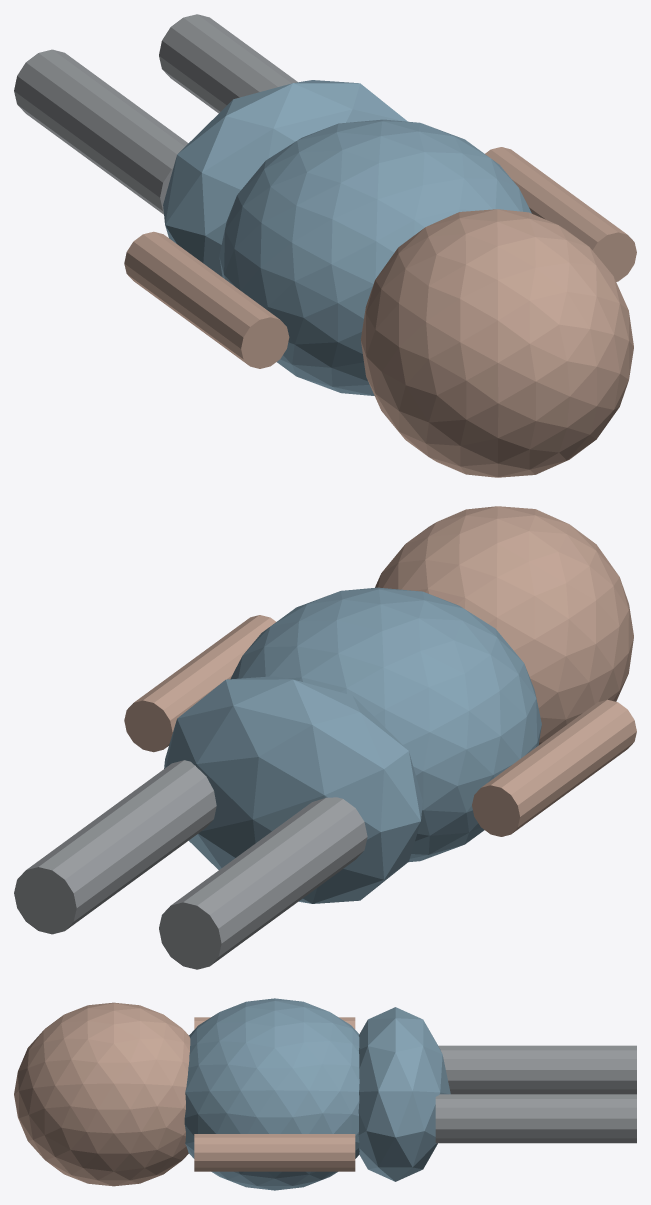
File: newborn-medium.glb
The picture shows the model from 3 angles, top to bottom: view 1: azimuth 30°, elevation 25°; view 2: azimuth 150°, elevation 25°; view 3: azimuth 270°, elevation 25°; orthographic projection. The views are drawn at different scales.
Visible parts, largest first — view 1: head, torso, pelvis, left_leg, left_arm, right_leg, right_arm; view 2: torso, pelvis, head, left_leg, right_leg, left_arm, right_arm; view 3: head, torso, pelvis, right_leg, left_leg, right_arm.
Part boxes in pixels (left/top/right/bottom): head: left=360, top=209, right=633, bottom=477; torso: left=219, top=119, right=531, bottom=395; pelvis: left=163, top=80, right=407, bottom=277; left_leg: left=14, top=49, right=188, bottom=214; left_arm: left=124, top=231, right=289, bottom=368; right_leg: left=159, top=14, right=297, bottom=113; right_arm: left=485, top=147, right=636, bottom=281; torso: left=230, top=587, right=541, bottom=862; pelvis: left=164, top=676, right=422, bottom=903; head: left=375, top=506, right=633, bottom=744; left_leg: left=159, top=797, right=367, bottom=969; right_leg: left=14, top=760, right=216, bottom=934; left_arm: left=472, top=699, right=636, bottom=836; right_arm: left=124, top=615, right=275, bottom=752; head: left=14, top=1002, right=190, bottom=1186; torso: left=184, top=998, right=359, bottom=1190; pelvis: left=358, top=1007, right=450, bottom=1181; right_leg: left=435, top=1094, right=636, bottom=1143; left_leg: left=438, top=1045, right=636, bottom=1094; right_arm: left=194, top=1134, right=355, bottom=1171.
Bounding box in the file's own units: 0.6888 × 0.4048 × 1.36.
